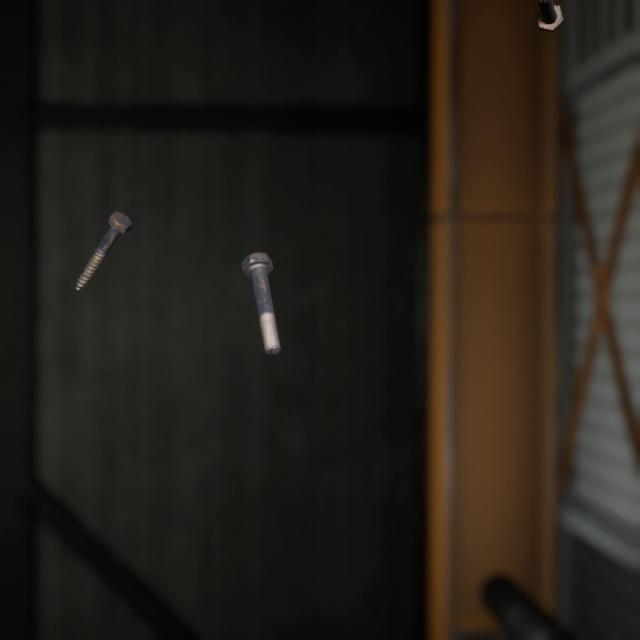bolt: (70, 190, 136, 278), (236, 230, 285, 341), (531, 0, 568, 30)
